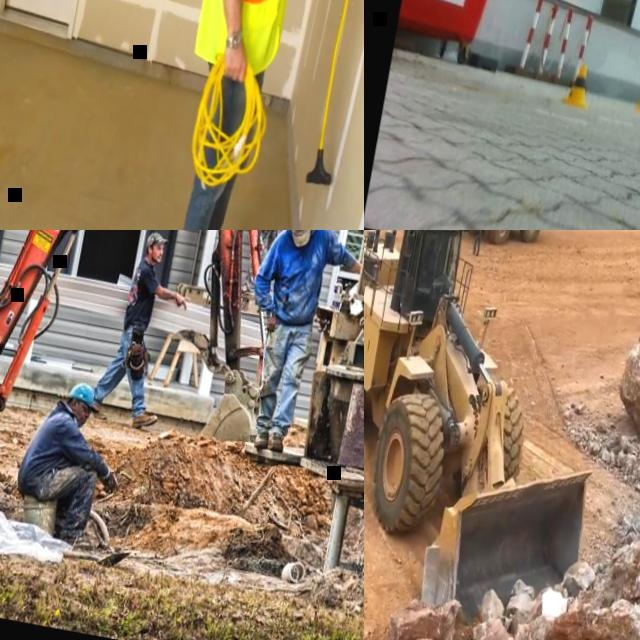NO-Hardhat: (65, 377, 103, 404), (143, 230, 168, 248), (284, 230, 314, 244)
NO-Mask: (149, 250, 163, 262), (75, 415, 86, 427)
NO-Safety Vest: (271, 230, 331, 323), (26, 408, 77, 477), (123, 262, 158, 325)
Person: (153, 0, 364, 230), (225, 230, 364, 457), (7, 371, 138, 555), (87, 230, 201, 432), (230, 230, 314, 296), (417, 235, 439, 283)
Safety Cone: (562, 61, 594, 106), (636, 84, 640, 111)
Safety Vest: (192, 0, 322, 76)
machinery: (364, 230, 639, 640), (0, 230, 308, 545), (446, 230, 565, 256)
